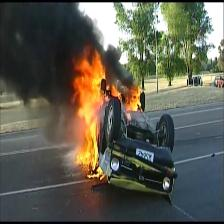fire: (71, 58, 102, 166)
smoke: (1, 5, 66, 100)
